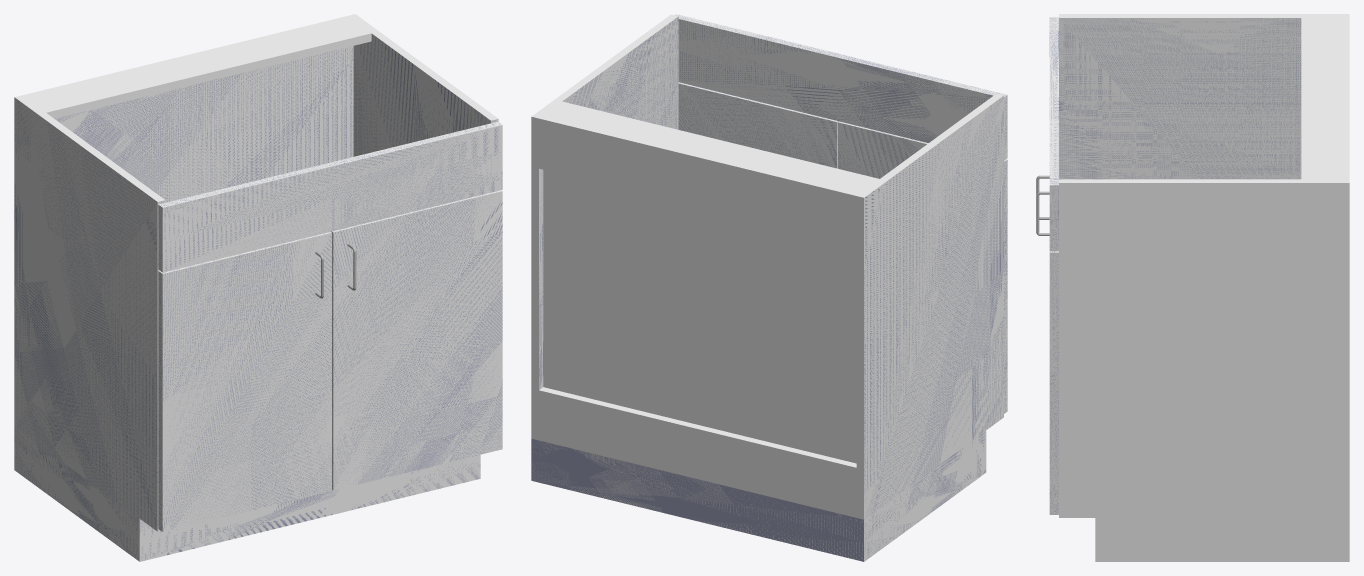
The model's file is toSink.fbx.
3 views of the same model, side by side, from view 1: azimuth 30°, elevation 25°; view 2: azimuth 150°, elevation 25°; view 3: azimuth 270°, elevation 25° (orthographic). The views are drawn at different scales.
Parts seen in each view (by area): view 1: LeftF1, G_1door_9_1, G_1door_8_1, Unfinished_Back1, nailer_3_1, Unfinished_Right_End_3_1, stretcher_1_1, base_3_1, baseLF1, Unfinished_Left_End_3_1; view 2: Unfinished_Back1, LeftF1, nailer_3_1, nailer_5_1, base_3_1, nailer1, Unfinished_Right_End_3_1, stretcher_1_1, G_1door_8_1, baseLF1, G_1door_9_1, Unfinished_Left_End_3_1 (+1 smaller); view 3: RightN1, Unfinished_Left_End_3_1, baseRN1, stretcher_1_1, G_1door_8_1, nailer_3_1, Unfinished_Right_End_3_1.
Boxes of the visible parts, x1,y1,x2,y2 form: LeftF1: (14, 97, 157, 531); G_1door_9_1: (158, 232, 331, 531); G_1door_8_1: (331, 190, 502, 490); Unfinished_Back1: (55, 46, 353, 202); nailer_3_1: (158, 121, 502, 272); Unfinished_Right_End_3_1: (348, 14, 498, 156); stretcher_1_1: (22, 16, 371, 118); base_3_1: (139, 454, 480, 561); baseLF1: (14, 427, 139, 561); Unfinished_Left_End_3_1: (15, 95, 165, 531); Unfinished_Back1: (543, 170, 856, 463); LeftF1: (864, 96, 1003, 519); nailer_3_1: (674, 14, 1007, 160); nailer_5_1: (539, 387, 856, 509); base_3_1: (531, 438, 863, 561); nailer1: (539, 126, 856, 245); Unfinished_Right_End_3_1: (531, 14, 678, 440); stretcher_1_1: (539, 101, 879, 203); G_1door_8_1: (678, 82, 838, 168); baseLF1: (864, 430, 986, 561); G_1door_9_1: (838, 121, 1007, 413); Unfinished_Left_End_3_1: (856, 94, 1003, 519); RightN1: (1059, 183, 1349, 517); Unfinished_Left_End_3_1: (1059, 14, 1349, 179); baseRN1: (1095, 518, 1349, 561); stretcher_1_1: (1301, 18, 1349, 179); G_1door_8_1: (1049, 251, 1058, 514); nailer_3_1: (1049, 17, 1058, 251); Unfinished_Right_End_3_1: (1059, 179, 1349, 182).
Size of the model in its own units: 33 by 34.5 by 25.88.
